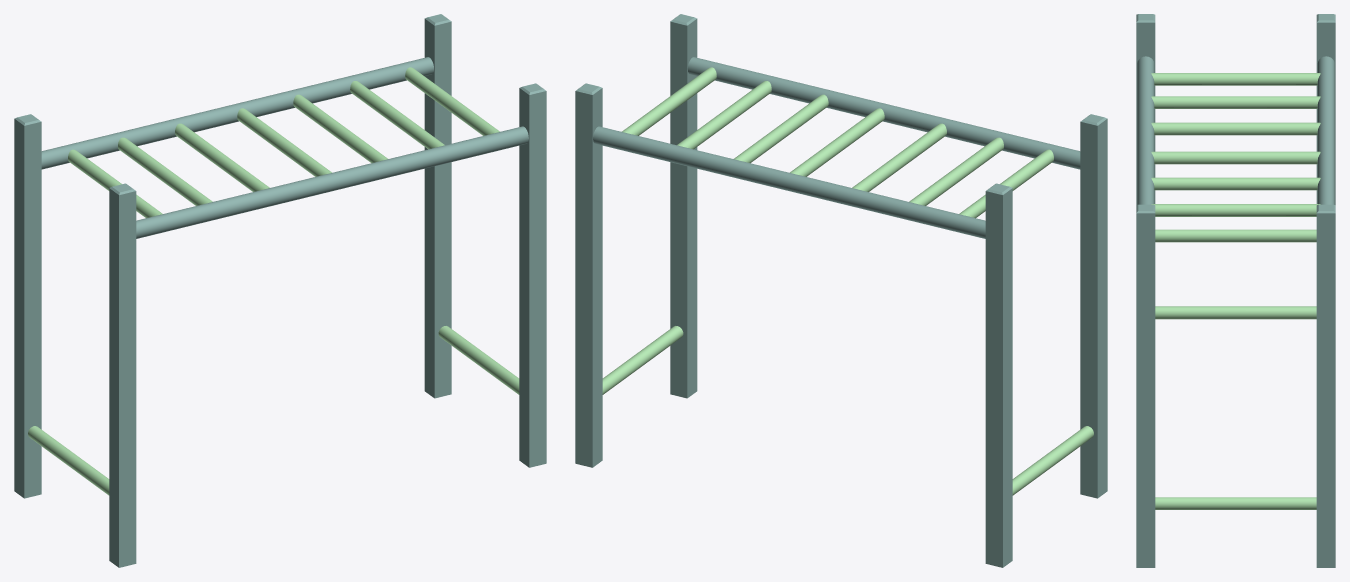
Rendered from Monkey_Bars 1.fbx.
3 views of the same model, side by side, from view 1: azimuth 30°, elevation 25°; view 2: azimuth 150°, elevation 25°; view 3: azimuth 270°, elevation 25° (orthographic). The views are drawn at different scales.
Visible parts, largest first — view 1: Monkey_Bars; view 2: Monkey_Bars; view 3: Monkey_Bars.
Boxes of the visible parts, x1,y1,x2,y2 form: Monkey_Bars: (14, 14, 546, 567); Monkey_Bars: (575, 14, 1107, 567); Monkey_Bars: (1136, 14, 1335, 567).
Bounding box in the file's own units: 308 × 258 × 131.
